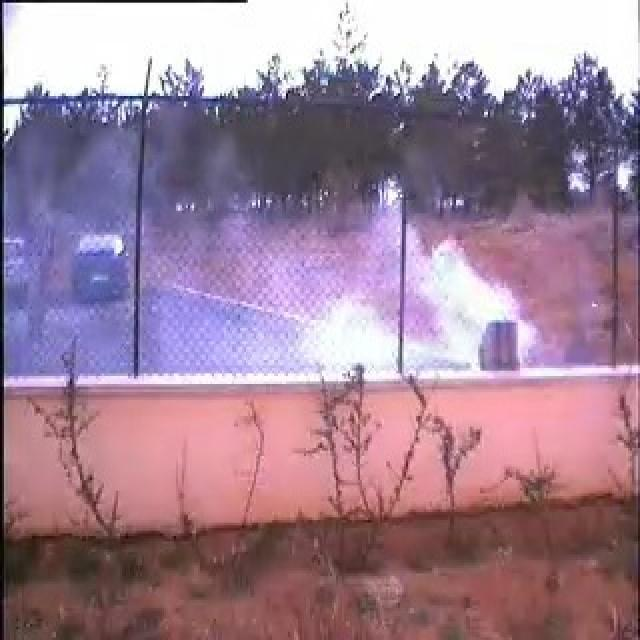Smoke: (200, 182, 526, 372)
